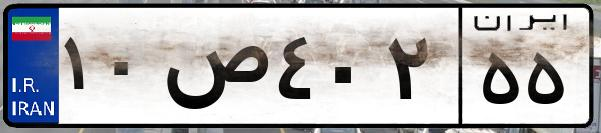0: (330, 28, 385, 110), (110, 28, 158, 98)
1: (57, 26, 110, 100)
2: (385, 28, 445, 110)
4: (270, 28, 330, 110)
5: (475, 38, 525, 113), (525, 38, 570, 115)
ص: (158, 20, 270, 120)
